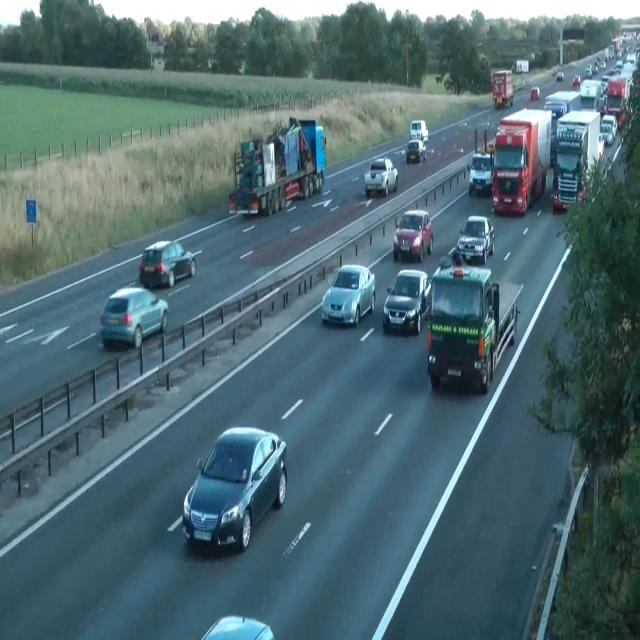bus: (182, 426, 288, 554), (99, 286, 169, 348), (321, 263, 375, 326), (382, 269, 432, 335), (138, 239, 196, 289), (393, 209, 433, 262), (456, 214, 494, 265), (200, 614, 274, 639), (468, 150, 494, 196), (406, 138, 426, 164), (409, 119, 428, 143), (530, 86, 540, 100), (625, 53, 635, 64), (572, 74, 580, 87), (556, 70, 564, 81), (584, 68, 592, 78), (615, 60, 623, 70)
jeep: (363, 156, 398, 197), (599, 113, 617, 145)
minibus: (426, 258, 524, 394), (228, 115, 326, 217), (491, 107, 551, 215), (552, 109, 604, 212), (543, 90, 581, 165), (604, 75, 628, 129), (580, 78, 606, 112), (491, 70, 514, 108), (511, 58, 529, 74)
